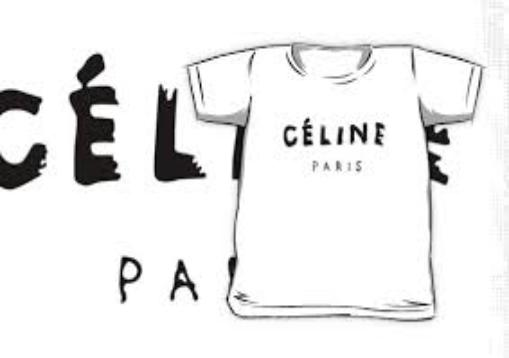CELINE: (285, 114, 392, 158)
